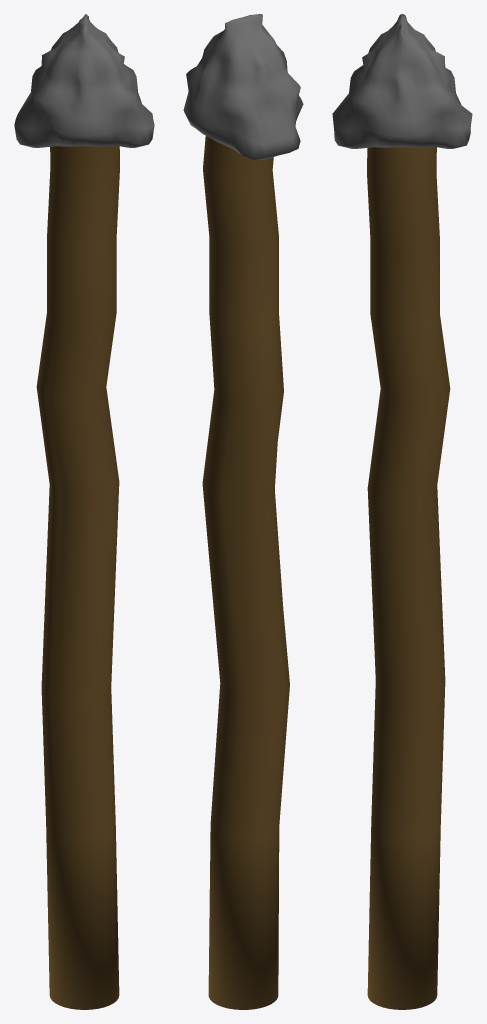
File: Spear.fbx
3 views of the same model, side by side, from view 1: azimuth 90°, elevation 25°; view 2: azimuth 210°, elevation 25°; view 3: azimuth 270°, elevation 25° (orthographic).
Visible parts, largest first — view 1: Sphere; view 2: Sphere; view 3: Sphere.
Boxes of the visible parts, x1,y1,x2,y2 form: Sphere: (14, 14, 154, 1009); Sphere: (183, 14, 303, 1009); Sphere: (332, 14, 472, 1009).
Size of the model in its own units: 178 by 1543 by 201.
